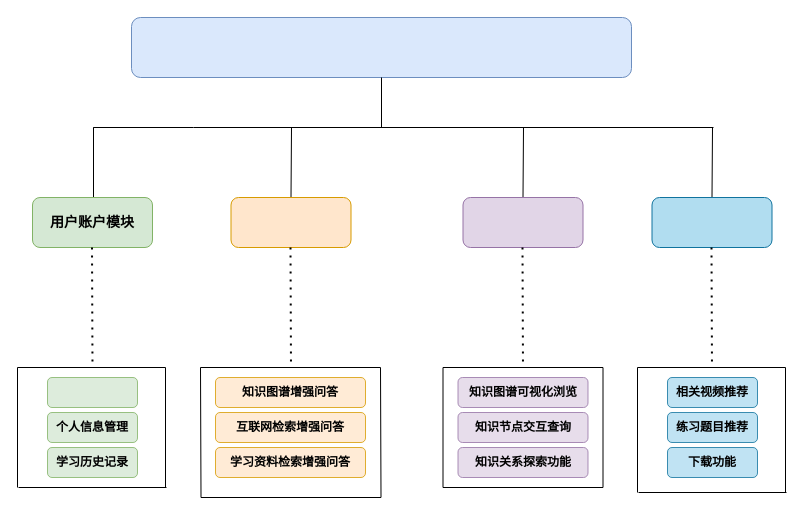
The diagram is 805 pixels wide and 516 high, and some of its shapes have lost their labels. The centre of each missing label's shape, as x and y in pixels:
"学习资源模块" goes at (x=711, y=222).
"智能问答模块" goes at (x=290, y=222).
"用户认证功能" goes at (x=92, y=392).
"知识图谱模块" goes at (x=522, y=222).
"融合知识图谱与大模型的操作系统学习平台" goes at (x=381, y=47).
